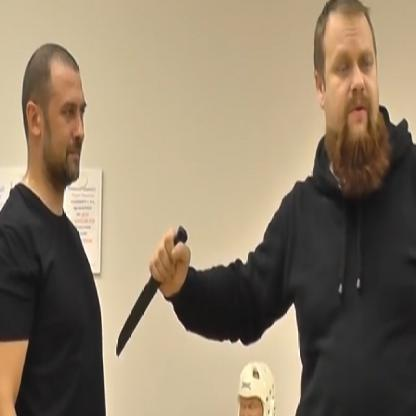knife: (109, 219, 189, 363)
